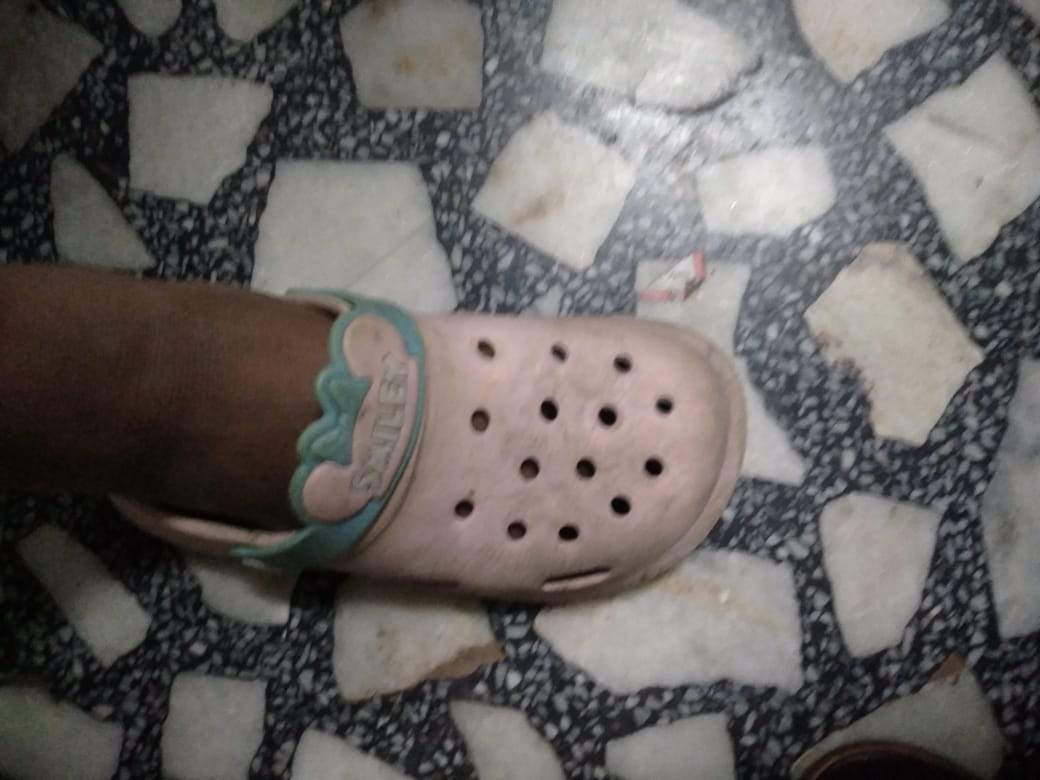Footwear: (112, 278, 756, 606)
